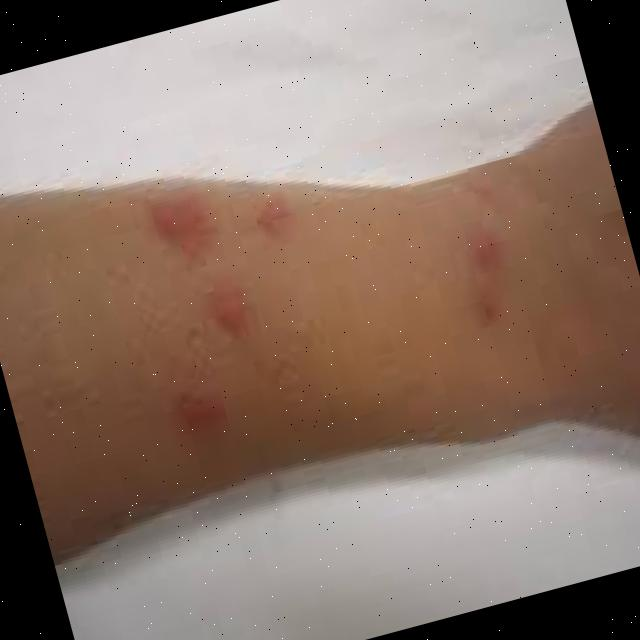kan emici bocekler: (145, 193, 226, 272), (243, 189, 307, 249), (460, 216, 511, 275), (210, 281, 254, 347), (182, 392, 232, 435)
